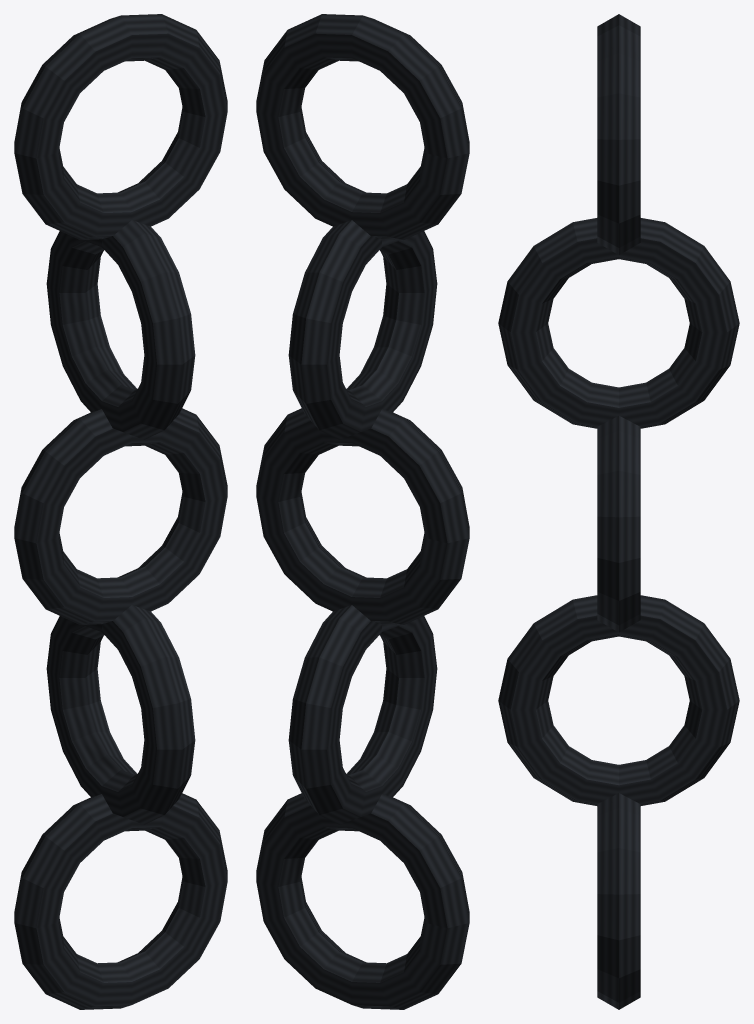
File: SM_FC_HangingChain.fbx
3 views of the same model, side by side, from view 1: azimuth 30°, elevation 25°; view 2: azimuth 150°, elevation 25°; view 3: azimuth 270°, elevation 25° (orthographic).
Visible parts, largest first — view 1: SM_FC_HangingChain; view 2: SM_FC_HangingChain; view 3: SM_FC_HangingChain.
Boxes of the visible parts, x1,y1,x2,y2 form: SM_FC_HangingChain: (14,14,227,1009); SM_FC_HangingChain: (256,14,469,1009); SM_FC_HangingChain: (498,14,739,1009).
Size of what is drawn, in the model's own units: 0.58 by 2.58 by 0.58.
